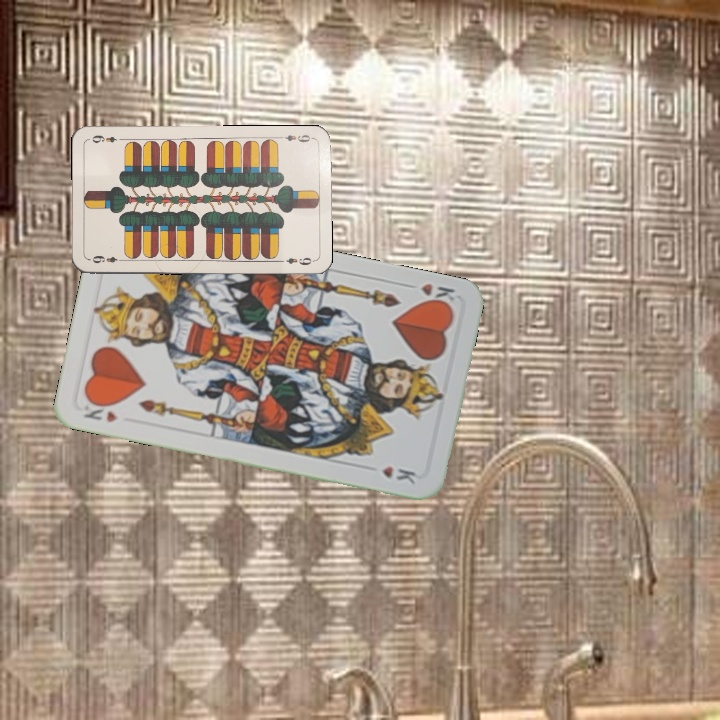E9: (275, 131, 315, 145), (87, 252, 127, 265)
HK: (416, 279, 457, 311), (79, 396, 120, 425)
